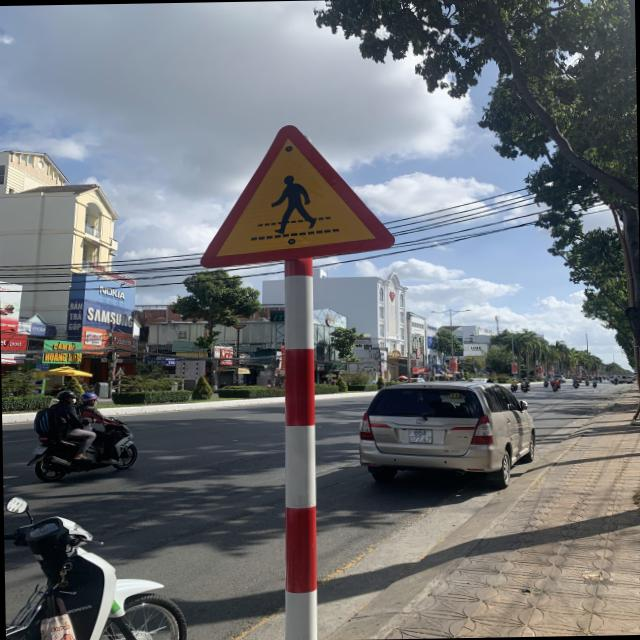Duong_Nguoi_Di_Bo_Sang_Ngang: (198, 119, 398, 267)
